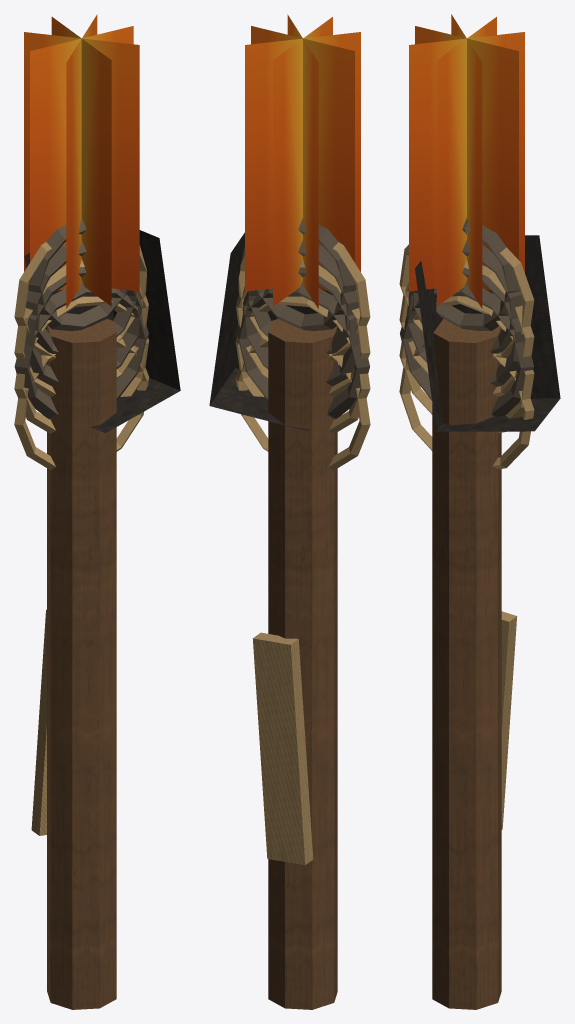
The model's file is pr-009_torch__lit.obj.
3 renders of one model, left to right at view 1: azimuth 30°, elevation 25°; view 2: azimuth 150°, elevation 25°; view 3: azimuth 330°, elevation 25°, orthographic.
Parts seen in each view (by area): view 1: pr-009_torch__lit; view 2: pr-009_torch__lit; view 3: pr-009_torch__lit.
Boxes of the visible parts, x1=… form: pr-009_torch__lit: x1=14, y1=14, x2=180, y2=1009; pr-009_torch__lit: x1=209, y1=14, x2=370, y2=1009; pr-009_torch__lit: x1=399, y1=14, x2=560, y2=1009.
Bounding box in the file's own units: 0.1287 × 0.78 × 0.0886.
Materials: 5 (5 with a texture image).
